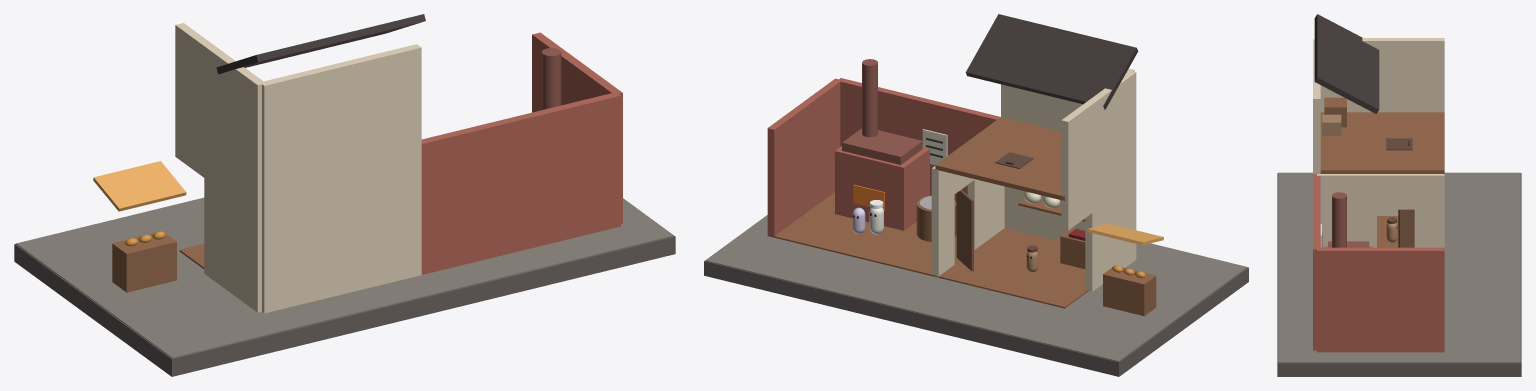
File: level_03.obj
3 renders of one model, left to right at view 1: azimuth 30°, elevation 25°; view 2: azimuth 150°, elevation 25°; view 3: azimuth 270°, elevation 25°, orthographic. The views are drawn at different scales.
Parts seen in each view (by area): view 1: _set, shop, oven; view 2: _set, oven, shop, door, ledger, vat, roster, store, baker; view 3: _set, oven, attic, door, hatch, apprentice.
Boxes of the visible parts, x1,y1,x2,y2 form: _set: [14, 14, 675, 376]; shop: [93, 161, 186, 292]; oven: [542, 48, 561, 109]; _set: [704, 14, 1248, 376]; oven: [835, 59, 929, 230]; shop: [1087, 223, 1163, 316]; door: [956, 189, 973, 271]; ledger: [1060, 227, 1085, 268]; vat: [916, 195, 956, 241]; roster: [922, 129, 947, 164]; store: [1018, 191, 1085, 221]; baker: [869, 200, 883, 234]; _set: [1277, 14, 1521, 376]; oven: [1324, 192, 1373, 247]; attic: [1322, 97, 1346, 135]; door: [1398, 209, 1414, 247]; hatch: [1386, 138, 1412, 150]; apprentice: [1386, 217, 1397, 242].
Size of the model in its own units: 12 by 6.29 by 6.5.
